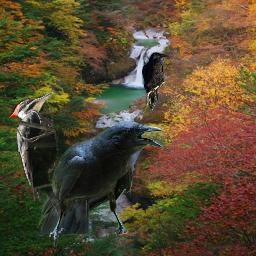Crow: (37, 121, 164, 247), (142, 52, 169, 112)
Woodpecker: (8, 92, 58, 219)
